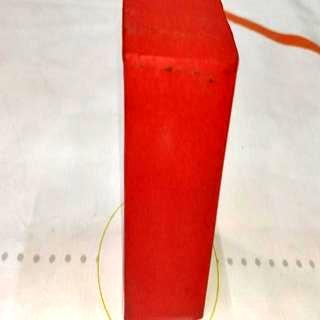redbox: (120, 0, 240, 320)
